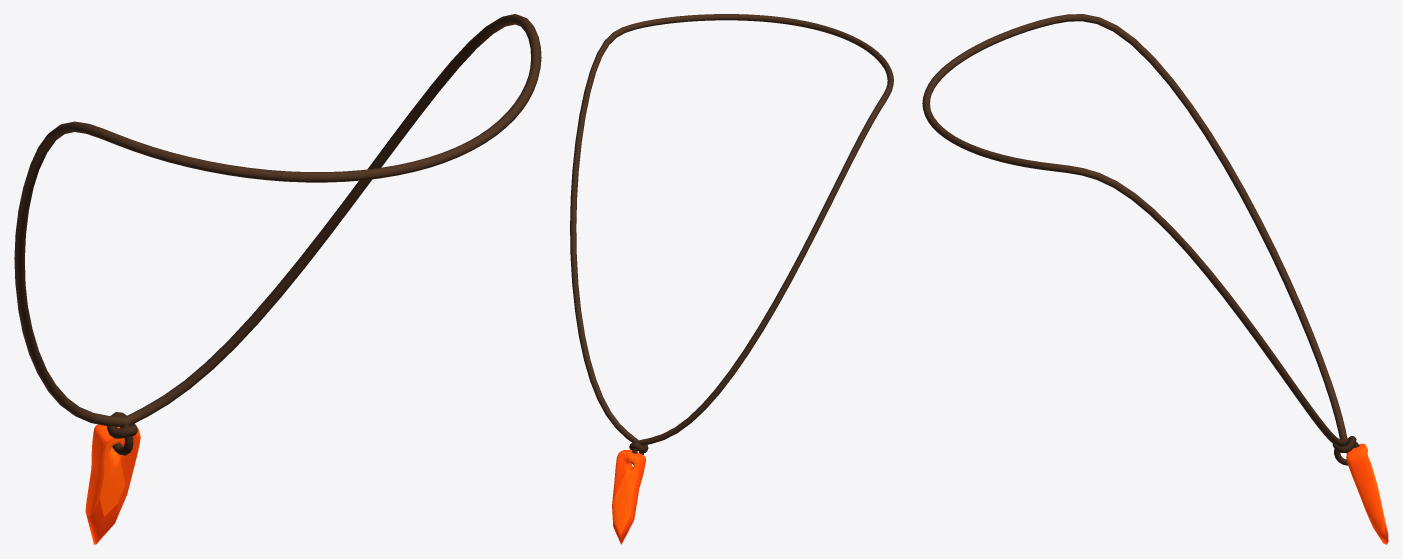
File: Amulet of Bravery-Baj2t2-f.glb
The picture shows the model from 3 angles, left to right: view 1: azimuth 30°, elevation 25°; view 2: azimuth 150°, elevation 25°; view 3: azimuth 270°, elevation 25°; orthographic projection. The views are drawn at different scales.
Parts seen in each view (by area): view 1: Amulet of Bravery.001; view 2: Amulet of Bravery.001; view 3: Amulet of Bravery.001.
Part boxes in pixels (bbox=[...]): Amulet of Bravery.001: bbox=[14, 14, 541, 544]; Amulet of Bravery.001: bbox=[570, 14, 893, 544]; Amulet of Bravery.001: bbox=[922, 14, 1388, 544].
Size of the model in its own units: 0.1833 by 0.2447 by 0.227.
